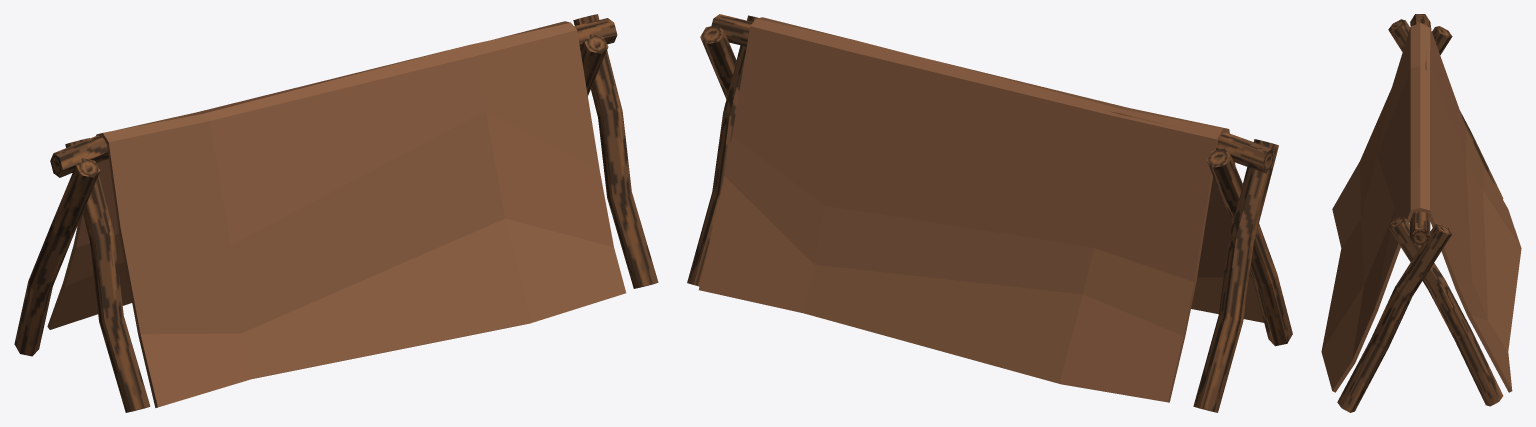
The model's file is Tent_Long.fbx.
3 views of the same model, side by side, from view 1: azimuth 30°, elevation 25°; view 2: azimuth 150°, elevation 25°; view 3: azimuth 270°, elevation 25° (orthographic). The views are drawn at different scales.
Parts seen in each view (by area): view 1: Tent 1.002; view 2: Tent 1.002; view 3: Tent 1.002.
Boxes of the visible parts, left/top/right/bottom form: Tent 1.002: left=14, top=14, right=658, bottom=412; Tent 1.002: left=687, top=14, right=1292, bottom=412; Tent 1.002: left=1321, top=14, right=1521, bottom=412.
Size of the model in its own units: 210 by 89.44 by 82.57.
